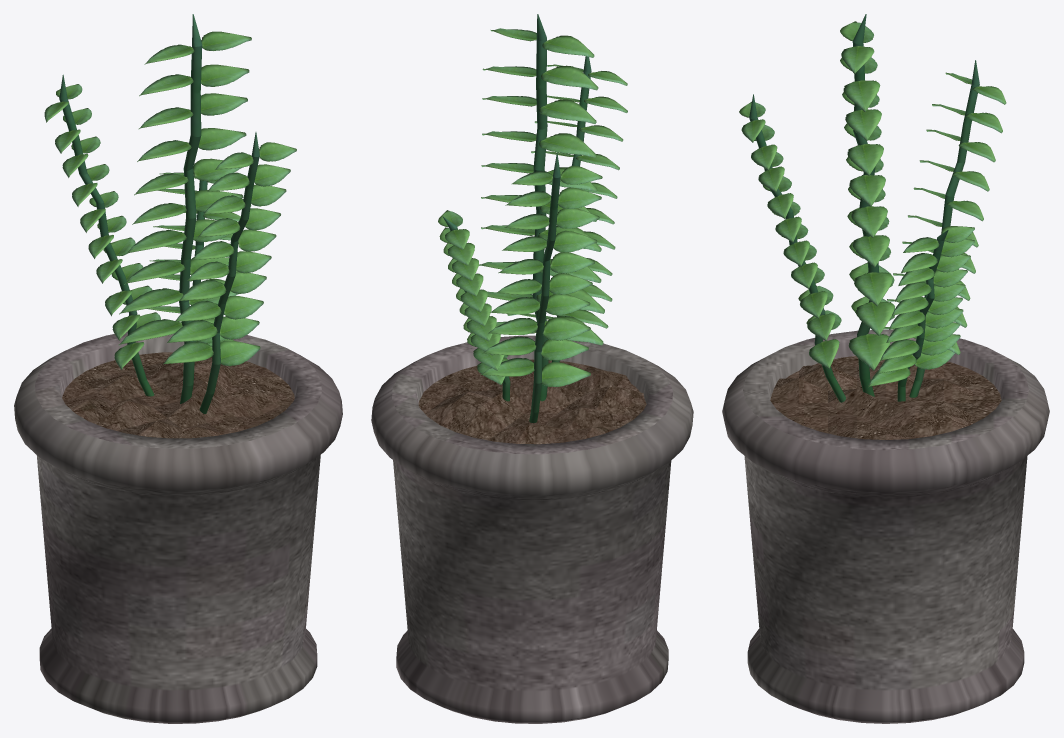
Rendered from Euphorbia tithymaloides1.fbx.
3 views of the same model, side by side, from view 1: azimuth 30°, elevation 25°; view 2: azimuth 150°, elevation 25°; view 3: azimuth 270°, elevation 25° (orthographic). The views are drawn at different scales.
Visible parts, largest first — view 1: Plane.002; view 2: Plane.002; view 3: Plane.002.
Part boxes in pixels (left/top/right/bottom): Plane.002: left=14, top=14, right=342, bottom=723; Plane.002: left=371, top=14, right=693, bottom=723; Plane.002: left=722, top=14, right=1049, bottom=723.
Bounding box in the file's own units: 25.05 × 55.71 × 25.05.
90 materials, 90 textured.
